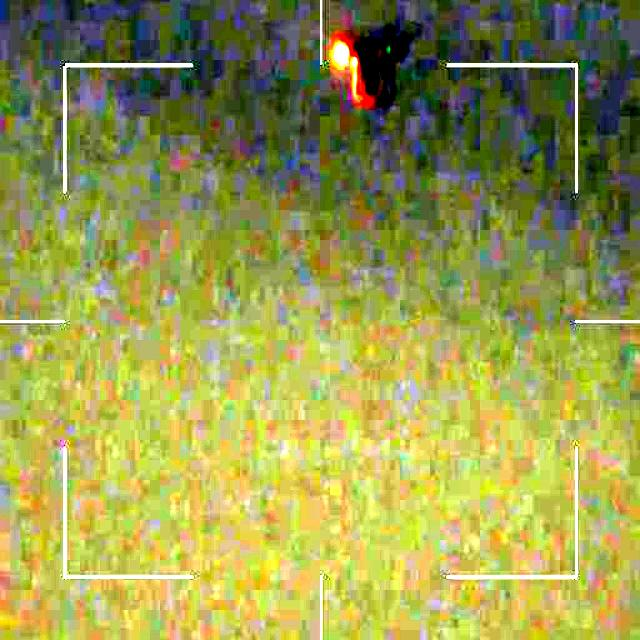bird: (328, 19, 410, 110)
